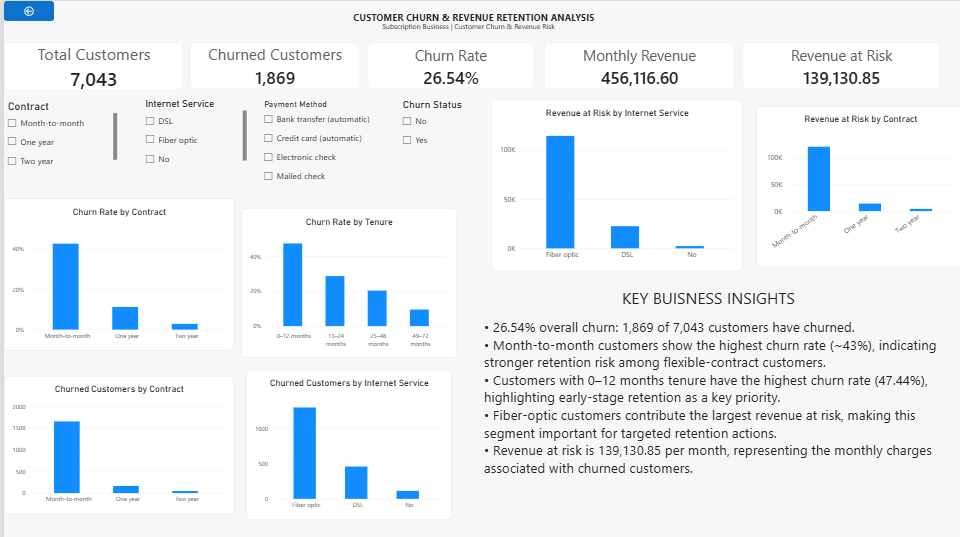

The page's visual inventory and layout, read from the dashboard file:
{"tool":"powerbi","page":{"name":"Page 1","canvas":[1920,1080],"ordinal":0},"visuals":[{"type":"cardVisual","title":"Total Customers","fields":{"Data":["select","Sheet1.Total Customers Display"]},"box":[0,84.3,358.6,92.9],"z":0},{"type":"cardVisual","fields":{"Data":["Sheet1.Churned Customers Display"]},"box":[372.9,85.7,338.6,91.4],"z":1000},{"type":"actionButton","box":[0,0,100,40],"z":2000},{"type":"cardVisual","fields":{"Data":["Sheet1.Churn Rate"]},"box":[728.6,85.7,331.4,91.4],"z":3000},{"type":"cardVisual","fields":{"Data":["Sheet1.Monthly Revenue Display"]},"box":[1080,85.7,380,91.4],"z":4000},{"type":"cardVisual","fields":{"Data":["Sheet1.Revenue at Risk Display"]},"box":[1478.6,85.7,394.3,91.4],"z":5000},{"type":"clusteredColumnChart","title":"Churned Customers by Contract","fields":{"Category":["Sheet1.Contract"],"Y":["Sheet1.Churned Customers"]},"box":[0,750,460,276],"z":6000},{"type":"clusteredColumnChart","title":"Churn Rate by Contract ","fields":{"Category":["Sheet1.Contract"],"Y":["Sheet1.Churn Rate by Contract"]},"box":[0,394,460,304],"z":7000},{"type":"clusteredColumnChart","title":"Churned Customers by Internet Service","fields":{"Category":["Sheet1.InternetService"],"Y":["Sheet1.Churned Customers"]},"box":[484,738,410,300],"z":8000},{"type":"clusteredColumnChart","title":"Churn Rate by Tenure","fields":{"Category":["Sheet1.tenure_segment"],"Y":["Sheet1.Churn Rate"]},"box":[474,416,430,298],"z":10000},{"type":"slicer","fields":{"Values":["Sheet1.Contract"]},"box":[0,198,226,132],"z":11000},{"type":"slicer","fields":{"Values":["Sheet1.InternetService"]},"box":[274,194,210,136],"z":12000},{"type":"slicer","fields":{"Values":["Sheet1.PaymentMethod"]},"box":[512,194,240,190],"z":13000},{"type":"slicer","fields":{"Values":["Sheet1.Churn"]},"box":[790,194,152,118],"z":14000},{"type":"clusteredColumnChart","fields":{"Category":["Sheet1.Contract"],"Y":["Sheet1.Revenue at Risk"]},"box":[1504,210,416,322],"z":15000},{"type":"clusteredColumnChart","title":"Revenue at Risk by Internet Service","fields":{"Category":["Sheet1.InternetService"],"Y":["Sheet1.Revenue at Risk"]},"box":[976,198,502,342],"z":17000},{"type":"textbox","box":[566,20,750,36],"z":18001},{"type":"textbox","box":[664.4,40,527.8,28.9],"z":18002},{"type":"textbox","box":[960,565,941.7,461.7],"z":18003}]}

Visuals, with their boxes in screenshot pixels (x1, y1, x2, y2), scaled from the page's 1920x1080 canvas onto the 960x537 screenshot:
"Total Customers" cardVisual: l=0, t=42, r=179, b=88
cardVisual - Sheet1.Churned Customers Display: l=186, t=43, r=356, b=88
actionButton: l=0, t=0, r=50, b=20
cardVisual - Sheet1.Churn Rate: l=364, t=43, r=530, b=88
cardVisual - Sheet1.Monthly Revenue Display: l=540, t=43, r=730, b=88
cardVisual - Sheet1.Revenue at Risk Display: l=739, t=43, r=936, b=88
"Churned Customers by Contract" clusteredColumnChart: l=0, t=373, r=230, b=510
"Churn Rate by Contract " clusteredColumnChart: l=0, t=196, r=230, b=347
"Churned Customers by Internet Service" clusteredColumnChart: l=242, t=367, r=447, b=516
"Churn Rate by Tenure" clusteredColumnChart: l=237, t=207, r=452, b=355
slicer - Sheet1.Contract: l=0, t=98, r=113, b=164
slicer - Sheet1.InternetService: l=137, t=96, r=242, b=164
slicer - Sheet1.PaymentMethod: l=256, t=96, r=376, b=191
slicer - Sheet1.Churn: l=395, t=96, r=471, b=155
clusteredColumnChart - Sheet1.Contract x Sheet1.Revenue at Risk: l=752, t=104, r=959, b=265
"Revenue at Risk by Internet Service" clusteredColumnChart: l=488, t=98, r=739, b=268
textbox: l=283, t=10, r=658, b=28
textbox: l=332, t=20, r=596, b=34
textbox: l=480, t=281, r=951, b=510
